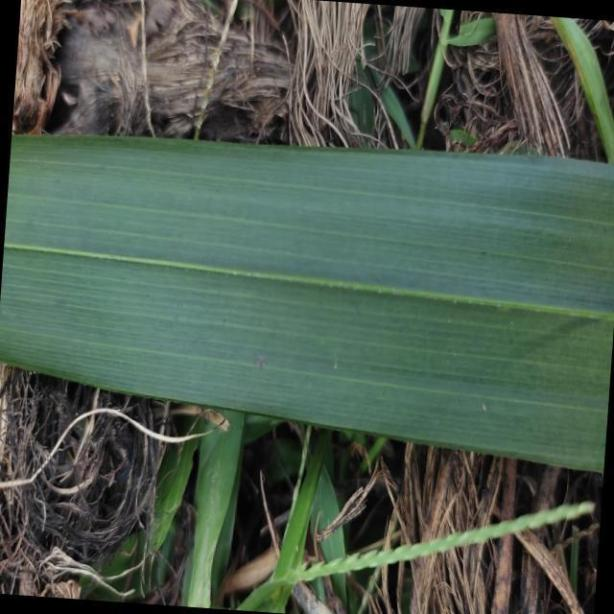Healthy: (3, 132, 609, 476)
